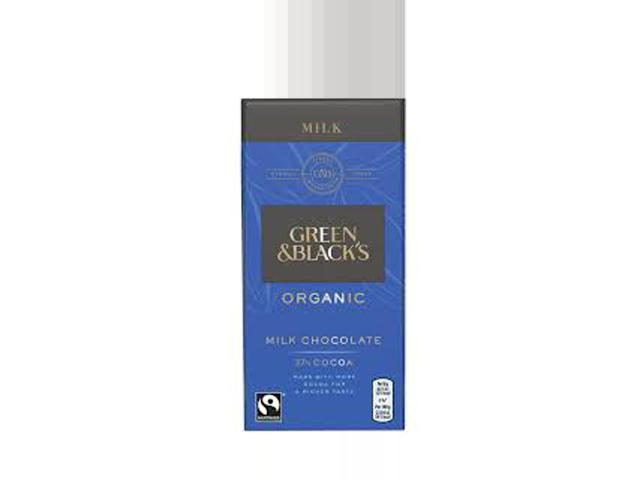chocolate: (238, 98, 408, 425)
